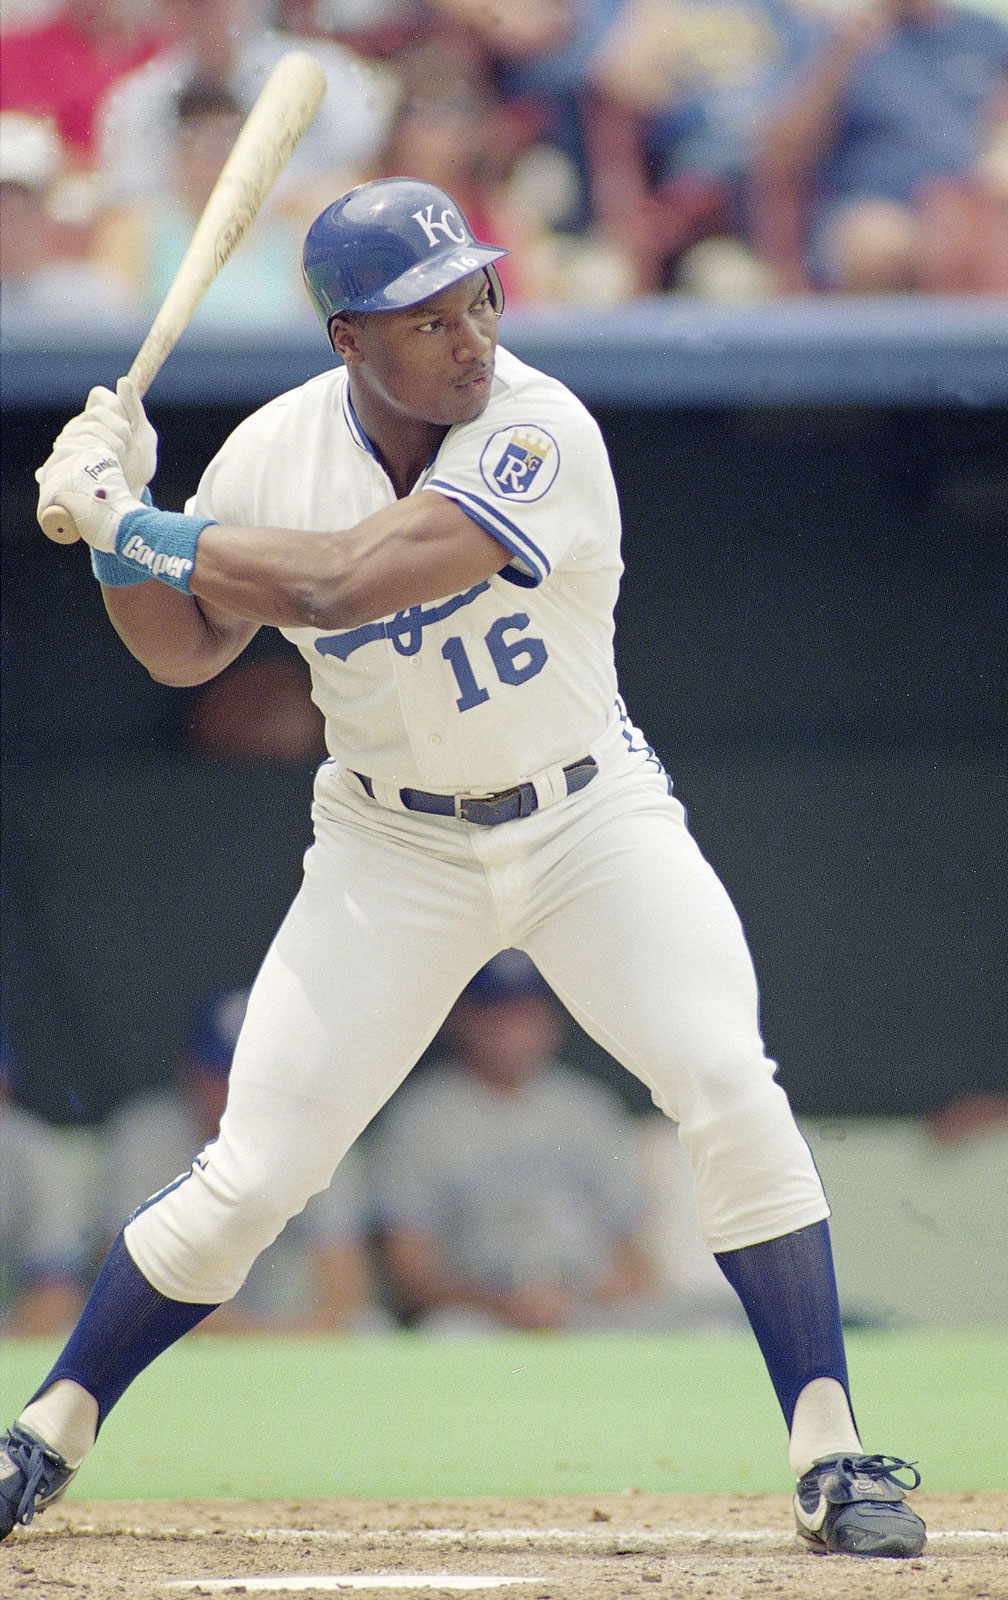Hip: (329, 783, 603, 857)
LeftAnkle: (789, 1396, 923, 1561)
LeftElbow: (294, 451, 358, 677)
LeftKnee: (653, 930, 795, 1208)
LeftShoulder: (502, 319, 605, 592)
RightKnee: (170, 1055, 269, 1357)
RightShoulder: (204, 363, 319, 499)
